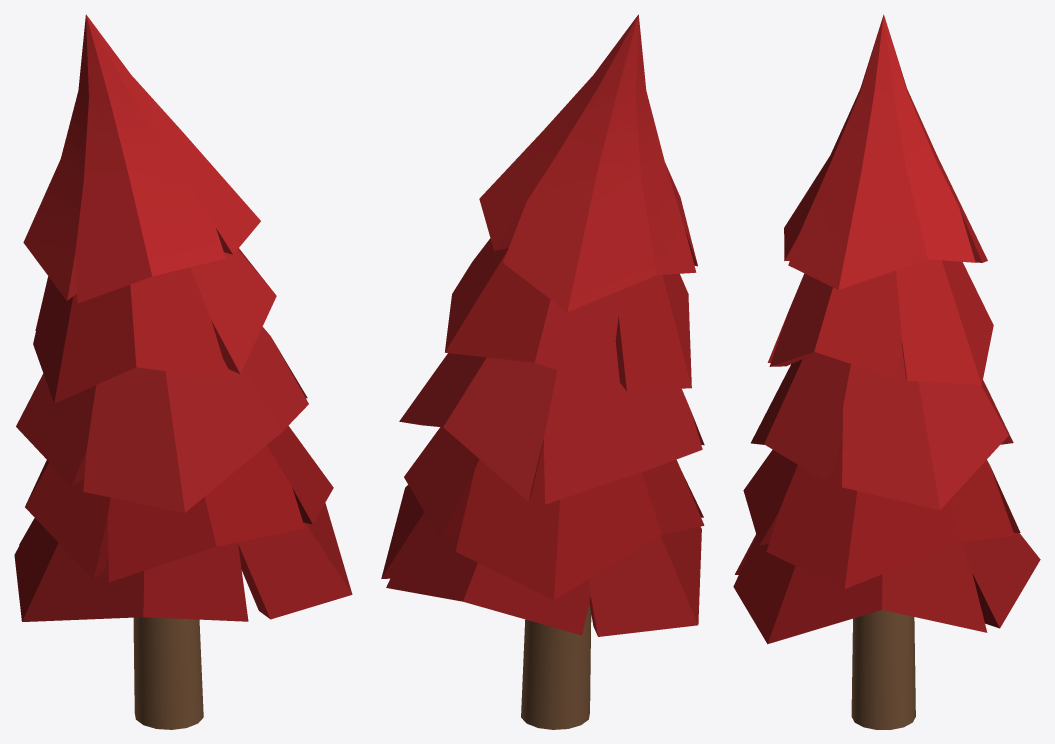
File: Spruce_Red_Thin_2.fbx
3 views of the same model, side by side, from view 1: azimuth 30°, elevation 25°; view 2: azimuth 150°, elevation 25°; view 3: azimuth 270°, elevation 25° (orthographic). The views are drawn at different scales.
Visible parts, largest first — view 1: Cylinder.502, Cylinder.503, Cylinder.504, Cylinder.506, Cylinder.505, Cylinder.507; view 2: Cylinder.502, Cylinder.503, Cylinder.505, Cylinder.504, Cylinder.506, Cylinder.507; view 3: Cylinder.502, Cylinder.503, Cylinder.505, Cylinder.504, Cylinder.506, Cylinder.507.
Part boxes in pixels (bbox=[...]): Cylinder.502: bbox=[23, 14, 260, 303]; Cylinder.503: bbox=[16, 327, 308, 512]; Cylinder.504: bbox=[33, 248, 276, 403]; Cylinder.506: bbox=[14, 503, 352, 621]; Cylinder.505: bbox=[25, 426, 333, 582]; Cylinder.507: bbox=[133, 617, 203, 729]; Cylinder.502: bbox=[479, 14, 697, 312]; Cylinder.503: bbox=[399, 342, 704, 504]; Cylinder.505: bbox=[404, 427, 704, 599]; Cylinder.504: bbox=[445, 238, 691, 391]; Cylinder.506: bbox=[381, 485, 701, 636]; Cylinder.507: bbox=[521, 603, 591, 729]; Cylinder.502: bbox=[784, 14, 987, 289]; Cylinder.503: bbox=[751, 345, 1013, 509]; Cylinder.505: bbox=[743, 436, 1020, 589]; Cylinder.504: bbox=[767, 259, 993, 385]; Cylinder.506: bbox=[733, 532, 1040, 644]; Cylinder.507: bbox=[851, 610, 915, 729].
Bounding box in the file's own units: 244 × 568 × 238.
